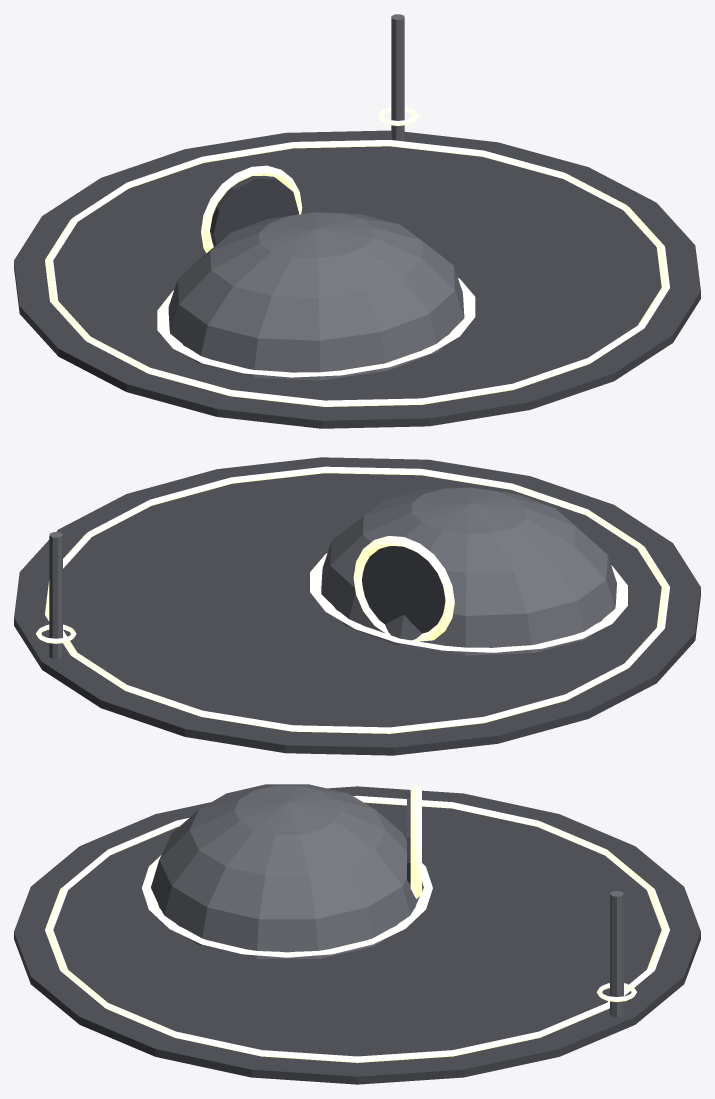
File: zone_low_4_t1.glb
3 renders of one model, top to bottom at view 1: azimuth 30°, elevation 25°; view 2: azimuth 150°, elevation 25°; view 3: azimuth 270°, elevation 25°, orthographic.
Parts seen in each view (by area): view 1: zone_low_4_t1, detail; view 2: zone_low_4_t1, detail; view 3: zone_low_4_t1, detail.
Part boxes in pixels (bbox=[...]): zone_low_4_t1: bbox=[14, 130, 700, 428]; detail: bbox=[45, 14, 669, 406]; zone_low_4_t1: bbox=[14, 457, 700, 755]; detail: bbox=[36, 466, 669, 733]; zone_low_4_t1: bbox=[14, 784, 700, 1084]; detail: bbox=[45, 795, 669, 1062].
Size of the model in its own units: 19.6 by 4.05 by 19.6.
